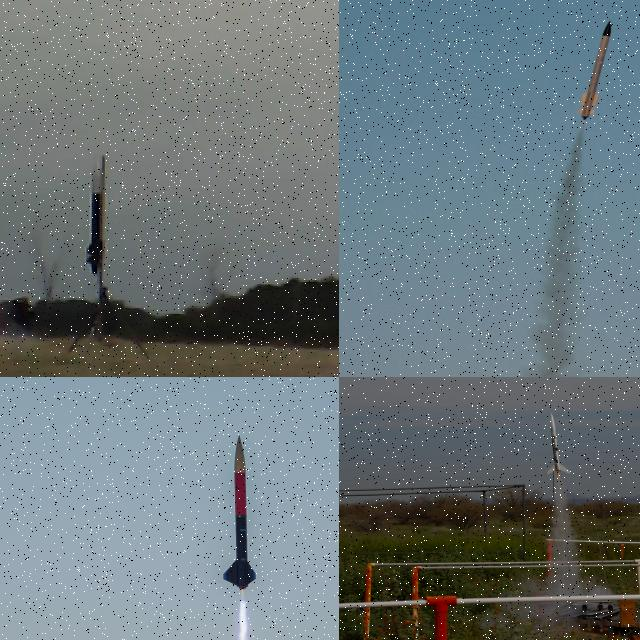Rocket: (223, 434, 257, 592), (576, 20, 612, 121), (84, 159, 102, 275), (545, 412, 572, 476)
